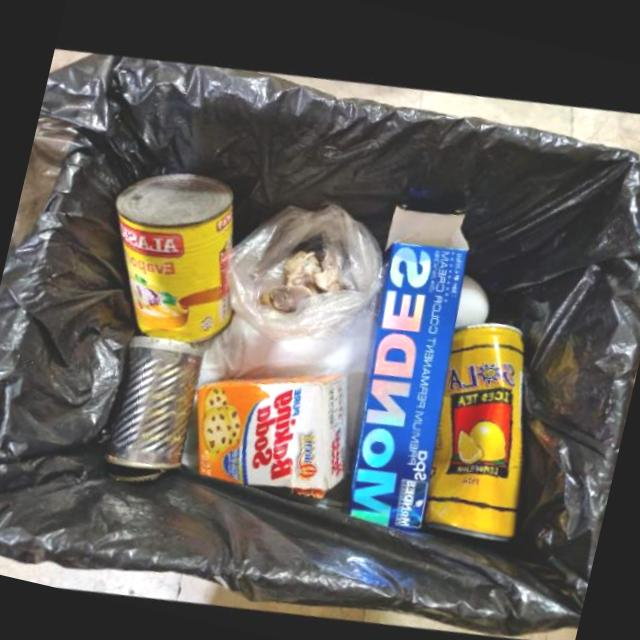carton: (341, 196, 471, 527), (198, 370, 350, 494)
nhom: (423, 322, 526, 541), (119, 166, 237, 338), (106, 328, 207, 476)
thuc_an_thua: (263, 244, 346, 308)
tui_ni_long: (227, 200, 386, 336)
vo_trung: (457, 272, 492, 325)
